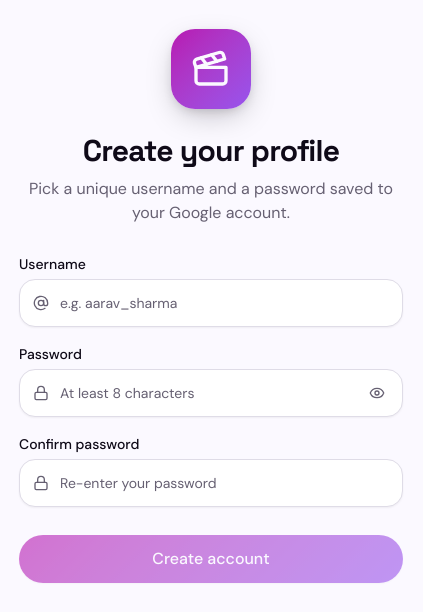
Scenario: OnboardingPage › shows a taken-username error when availability is false
Type "taken_name" into the field labelled "Username". click: (211, 303)
box: [19,279,403,327]
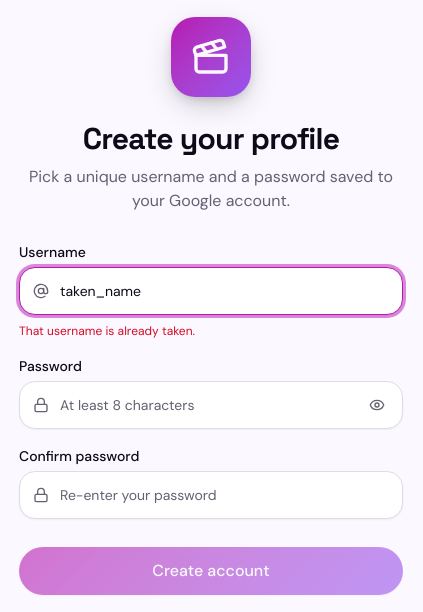
Result: the text "That username is already taken." is shown at [19,323,195,339]
